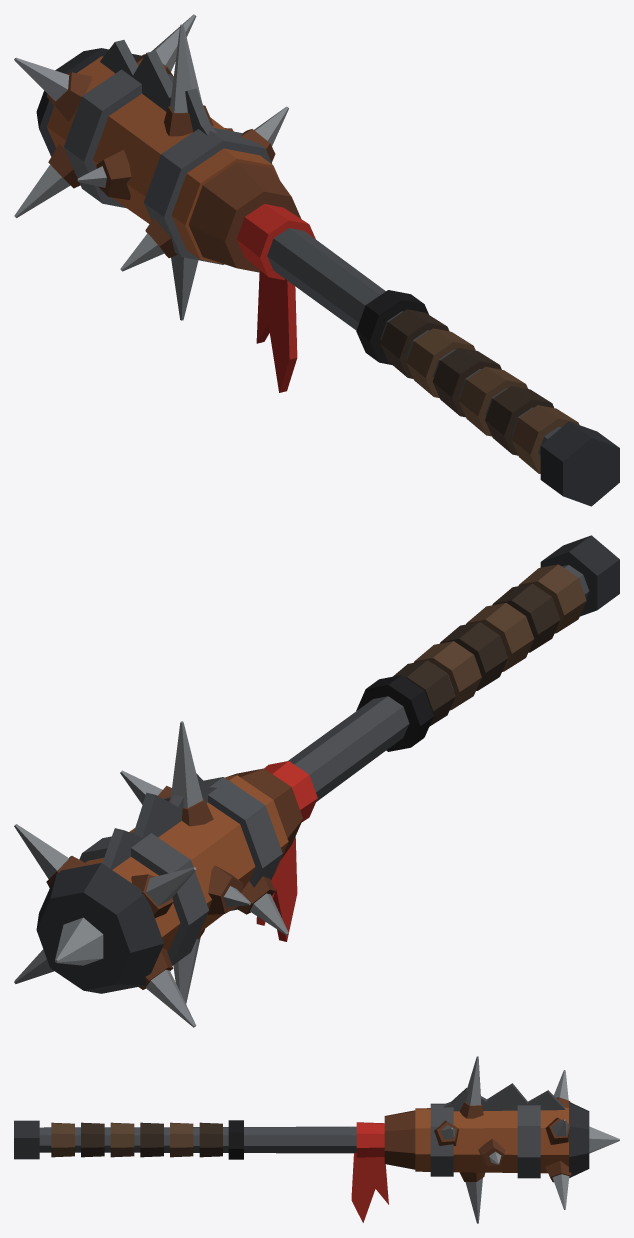
Rendered from raider_weapon.fbx.
3 views of the same model, one above another, from view 1: azimuth 30°, elevation 25°; view 2: azimuth 150°, elevation 25°; view 3: azimuth 270°, elevation 25° (orthographic). The views are drawn at different scales.
Visible parts, largest first — view 1: raider_weapon; view 2: raider_weapon; view 3: raider_weapon.
Part boxes in pixels (x1,y1,x2,y2): raider_weapon: (14,14,619,506); raider_weapon: (14,535,619,1027); raider_weapon: (14,1056,619,1223).
Bounding box in the file's own units: 0.2323 × 0.3603 × 1.18.
